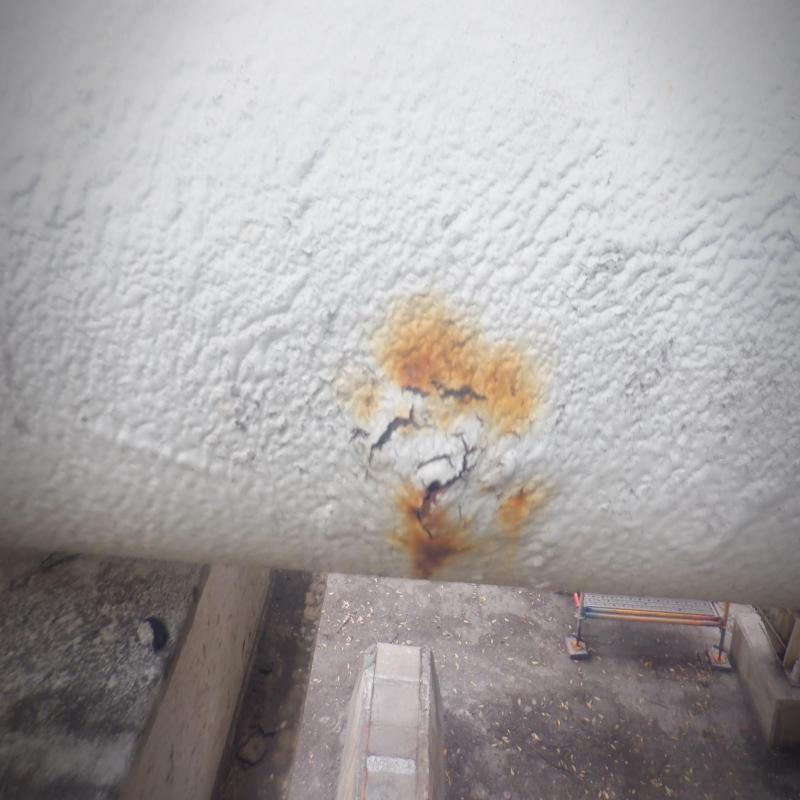Fracture: (354, 347, 499, 544)
